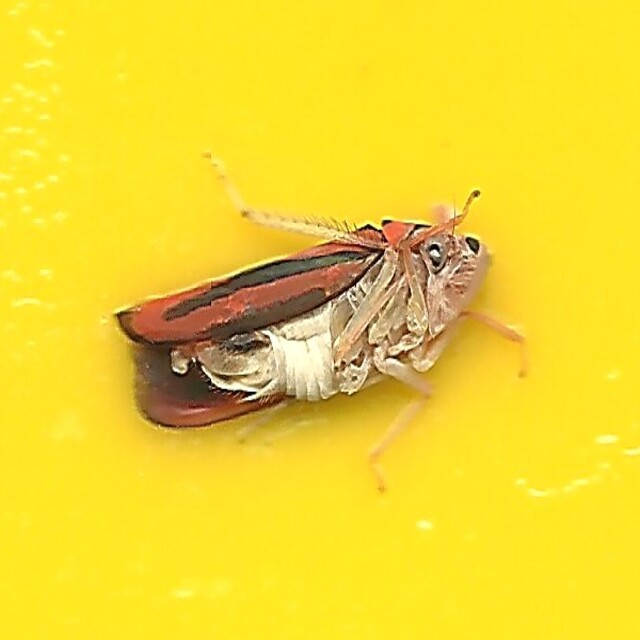Hemiptera: (107, 142, 533, 498)
